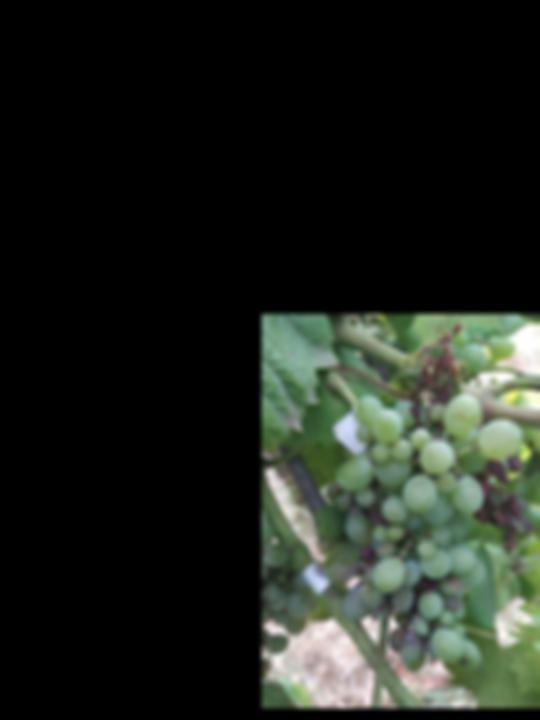grape: (324, 339, 539, 674)
